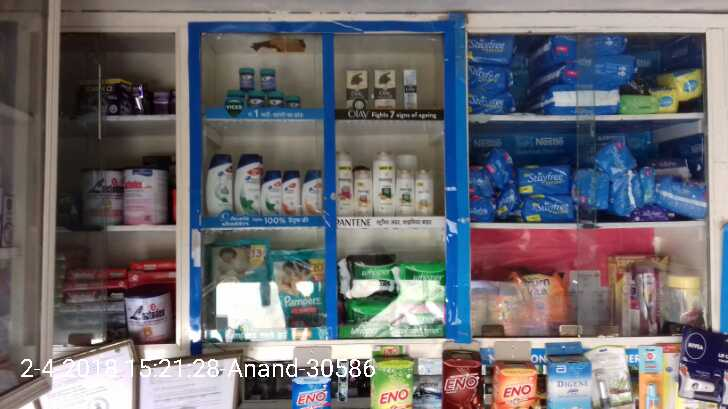vicks: (238, 66, 253, 88), (262, 66, 274, 91), (267, 93, 285, 109), (285, 94, 302, 109), (226, 91, 243, 106), (247, 93, 264, 107)
